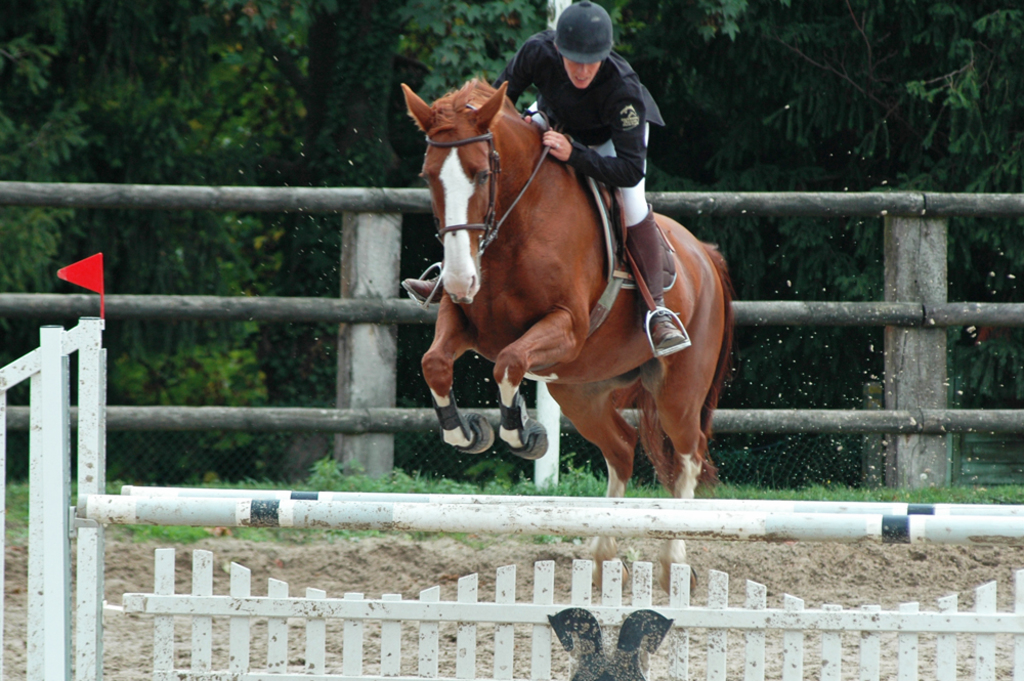Person: (490, 0, 710, 346)
